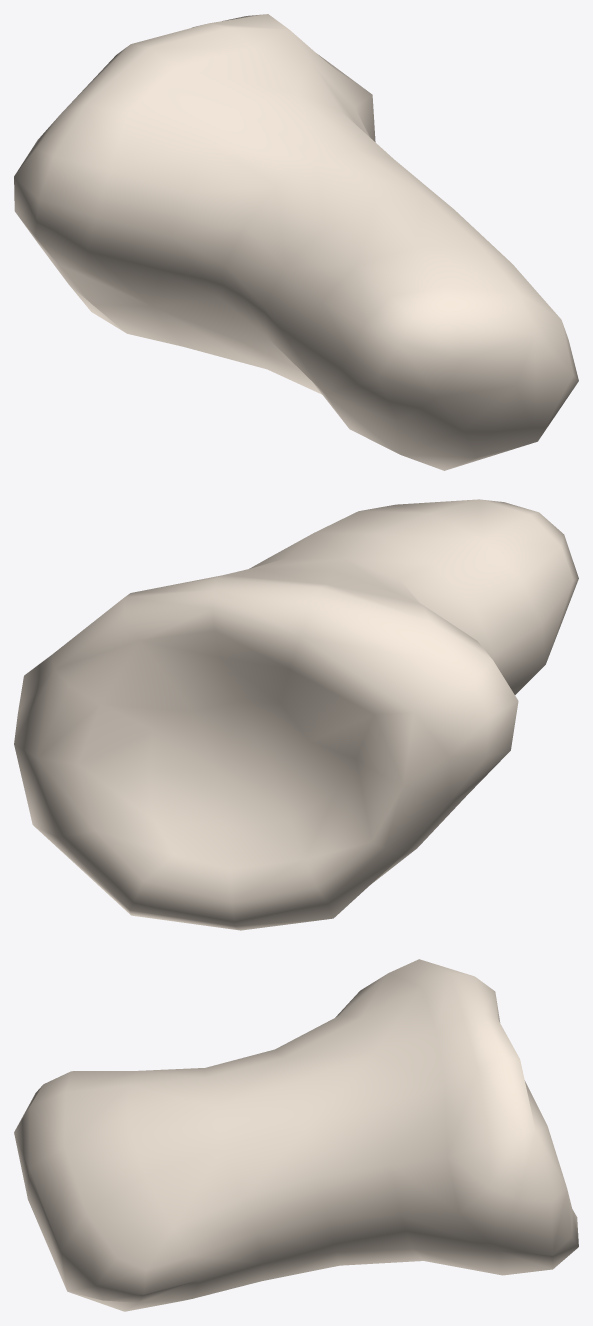
The model's file is left_toe_5_distal.glb.
3 renders of one model, top to bottom at view 1: azimuth 30°, elevation 25°; view 2: azimuth 150°, elevation 25°; view 3: azimuth 270°, elevation 25°, orthographic. The views are drawn at different scales.
Parts seen in each view (by area): view 1: Distal phalanx of fifth finger of foot.r; view 2: Distal phalanx of fifth finger of foot.r; view 3: Distal phalanx of fifth finger of foot.r.
Part boxes in pixels (left/top/right/bottom): Distal phalanx of fifth finger of foot.r: left=14, top=14, right=578, bottom=470; Distal phalanx of fifth finger of foot.r: left=14, top=499, right=578, bottom=930; Distal phalanx of fifth finger of foot.r: left=14, top=959, right=578, bottom=1311.
Bounding box in the file's own units: 0.00697 × 0.00525 × 0.00992.
